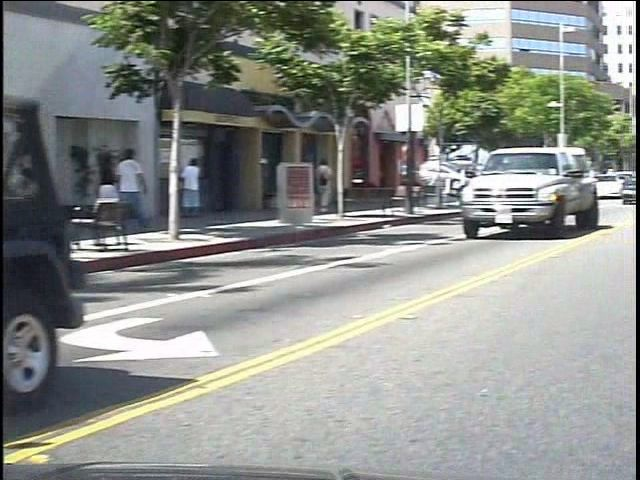person: (110, 147, 140, 237), (197, 145, 221, 228), (130, 144, 163, 201), (330, 156, 351, 216)
